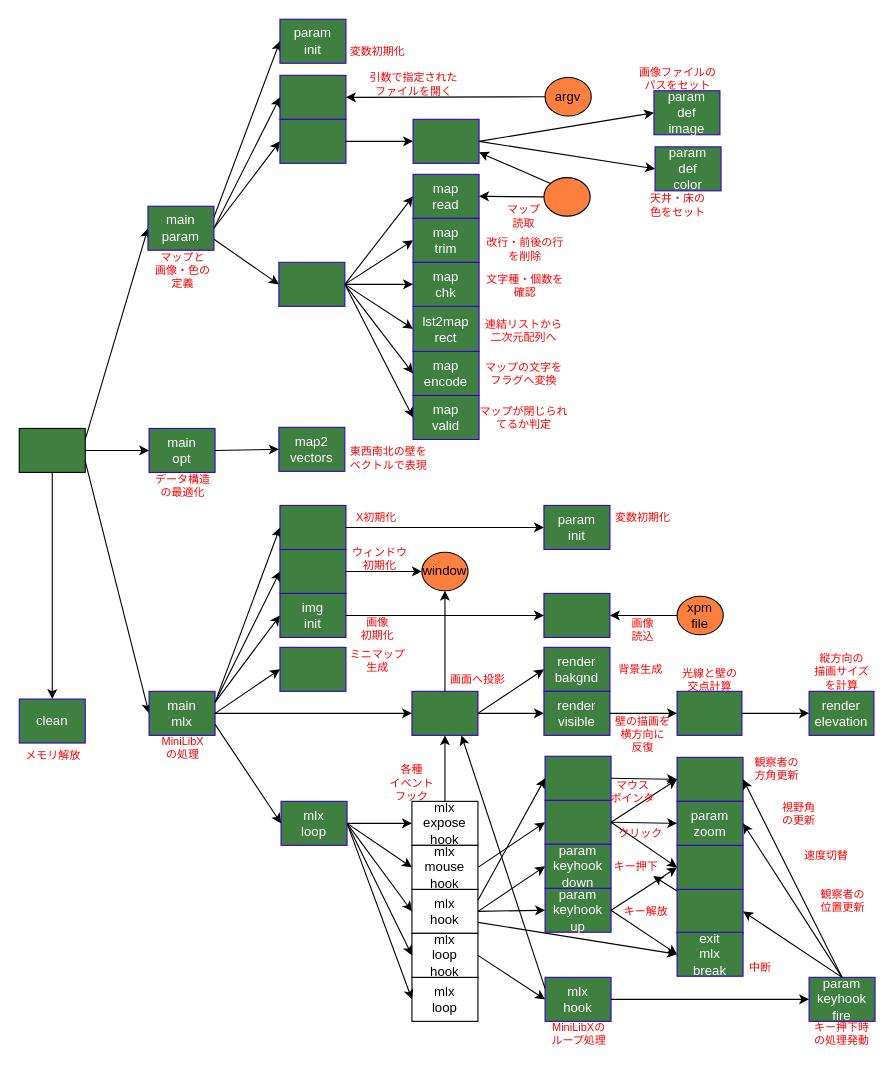
Some shapes in this 895 by 1065 pixel diagram are drawn without their labels. The centre of each missing label's shape, as x and y in pixels:
"cub file" belongs at pixel 566 196.
"img texture load" belongs at pixel 576 614.
"main" belongs at pixel 51 449.
"mlx init" belongs at pixel 312 526.
"param clickhook" belongs at pixel 577 821.
"param cursorhook" belongs at pixel 577 777.
"param def" belongs at pixel 312 140.
"param def sub" belongs at pixel 445 140.
"param getmap" belongs at pixel 311 283.
"param move" belongs at pixel 709 910.
"param open" belongs at pixel 312 96.
"param speed" belongs at pixel 709 866.
"param turn" belongs at pixel 709 778.
"render hud init" belongs at pixel 312 668.
"render intersect" belongs at pixel 709 712.
"win draw vision" belongs at pixel 444 712.
"win init" belongs at pixel 312 570.
